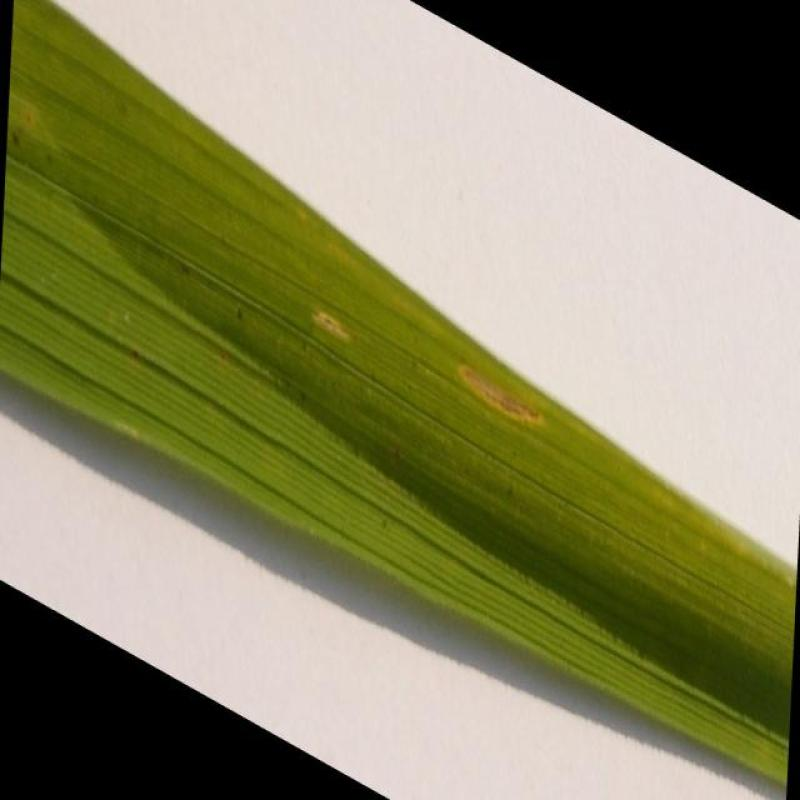Bacterial_Leaf_Blight: (453, 351, 548, 445), (312, 292, 349, 356)
